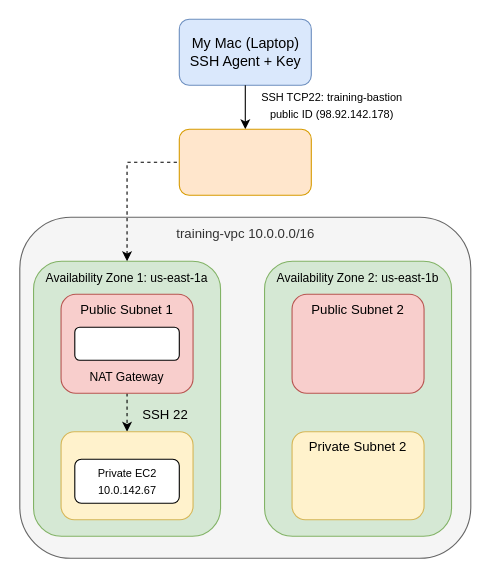
This 490x578 diagram has some shape labels left out. Here are the shapes that lost their labels. From the top down, the box of each, then its label:
(178, 128, 311, 195): Internet Gateway
(74, 326, 179, 360): Bastion EC2 10.0.3.151
(60, 431, 193, 520): Private Subnet 1
